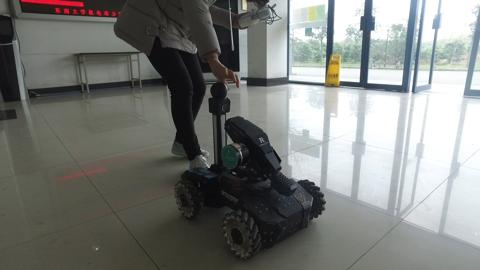chariot: (167, 84, 337, 260)
